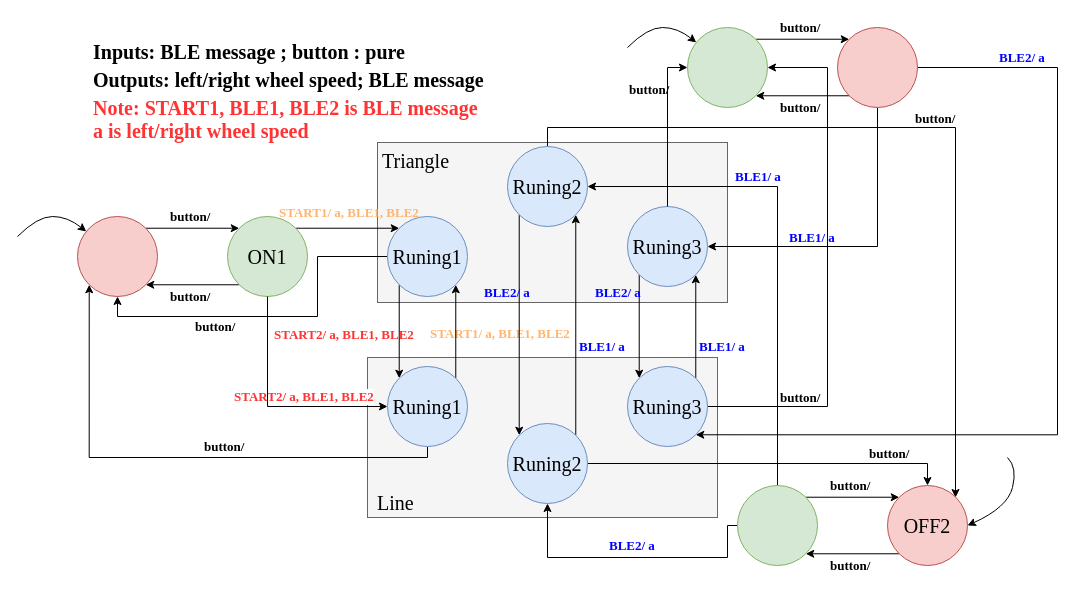
Image size: 1083x592. Some labels were removed from this diagram. Each missing label, with the centre of its shape:
OFF1: point 117,256
OFF3: point 727,67
ON2: point 777,525
ON3: point 877,67
